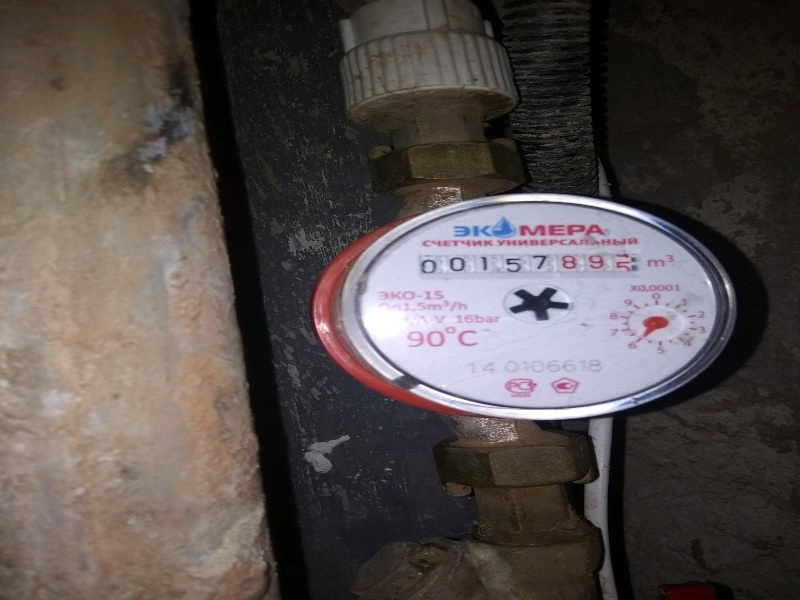meter: (405, 248, 641, 283)
